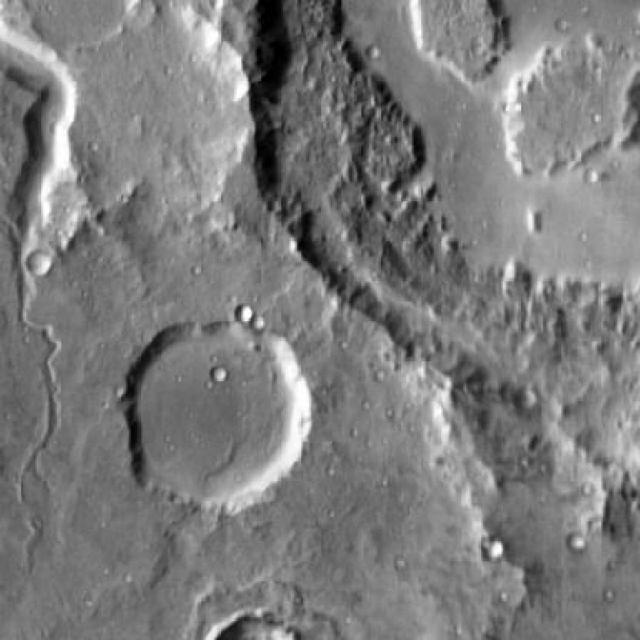crater: (124, 321, 319, 516), (33, 0, 139, 62), (480, 538, 506, 564), (512, 388, 537, 412), (27, 252, 50, 274), (565, 531, 587, 552), (236, 306, 255, 325), (210, 367, 228, 384), (248, 312, 264, 328)
